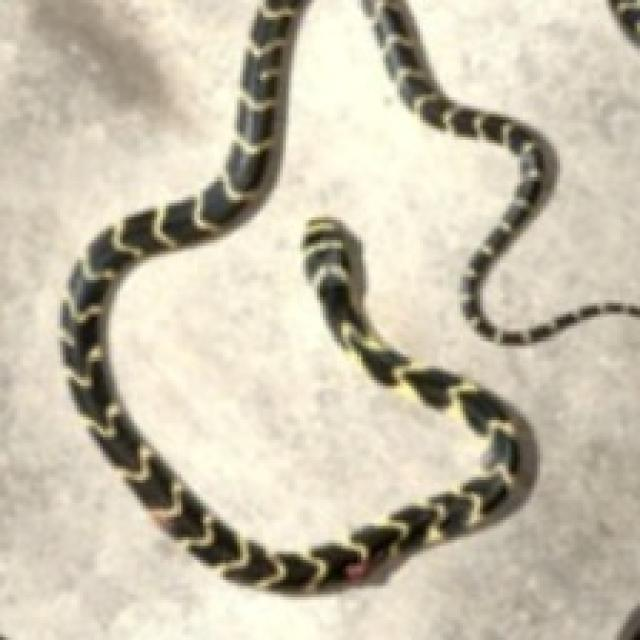king cobra: (63, 3, 514, 586), (231, 3, 291, 183)
